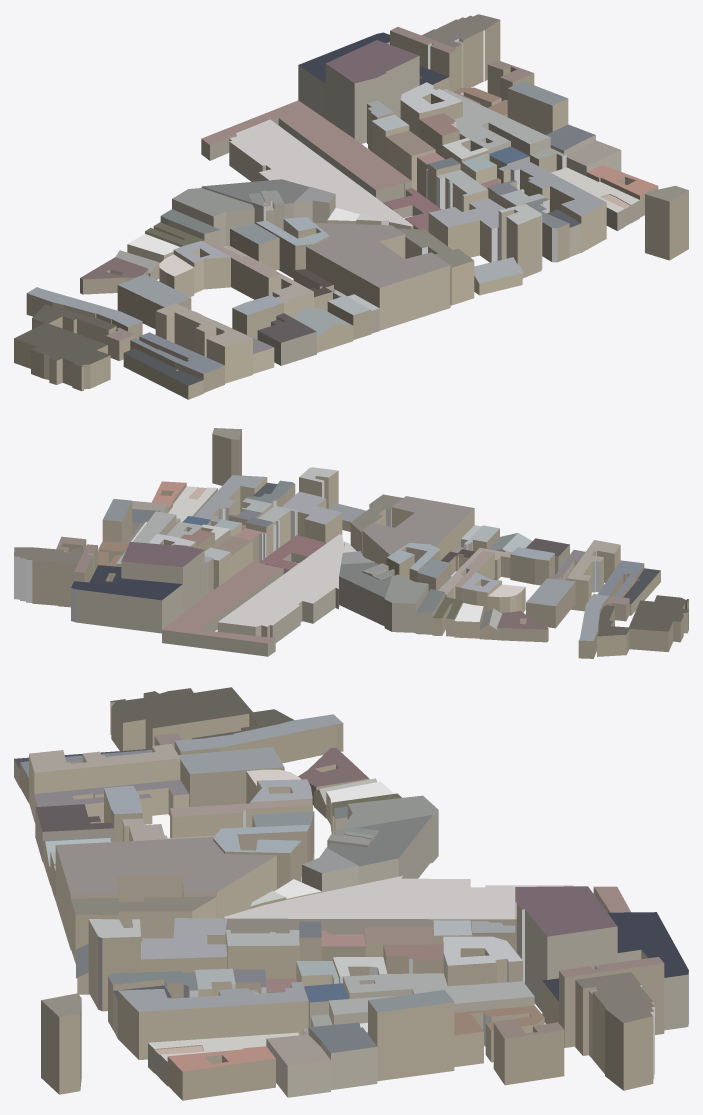
3 renders of one model, top to bottom at view 1: azimuth 30°, elevation 25°; view 2: azimuth 150°, elevation 25°; view 3: azimuth 270°, elevation 25°, orthographic. The views are drawn at different scales.
Parts seen in each view (by area): view 1: tuile; view 2: tuile; view 3: tuile.
Part boxes in pixels (x1,y1,x2,y2): tuile: (14,14,688,399); tuile: (14,428,688,658); tuile: (14,687,688,1100).
Bounding box in the file's own units: 271 × 37.34 × 189.
